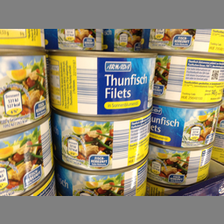fish: (50, 51, 157, 118), (50, 109, 152, 169), (1, 49, 54, 134), (1, 115, 53, 196), (155, 48, 222, 104), (147, 98, 222, 148), (55, 163, 152, 197), (145, 141, 213, 183)
